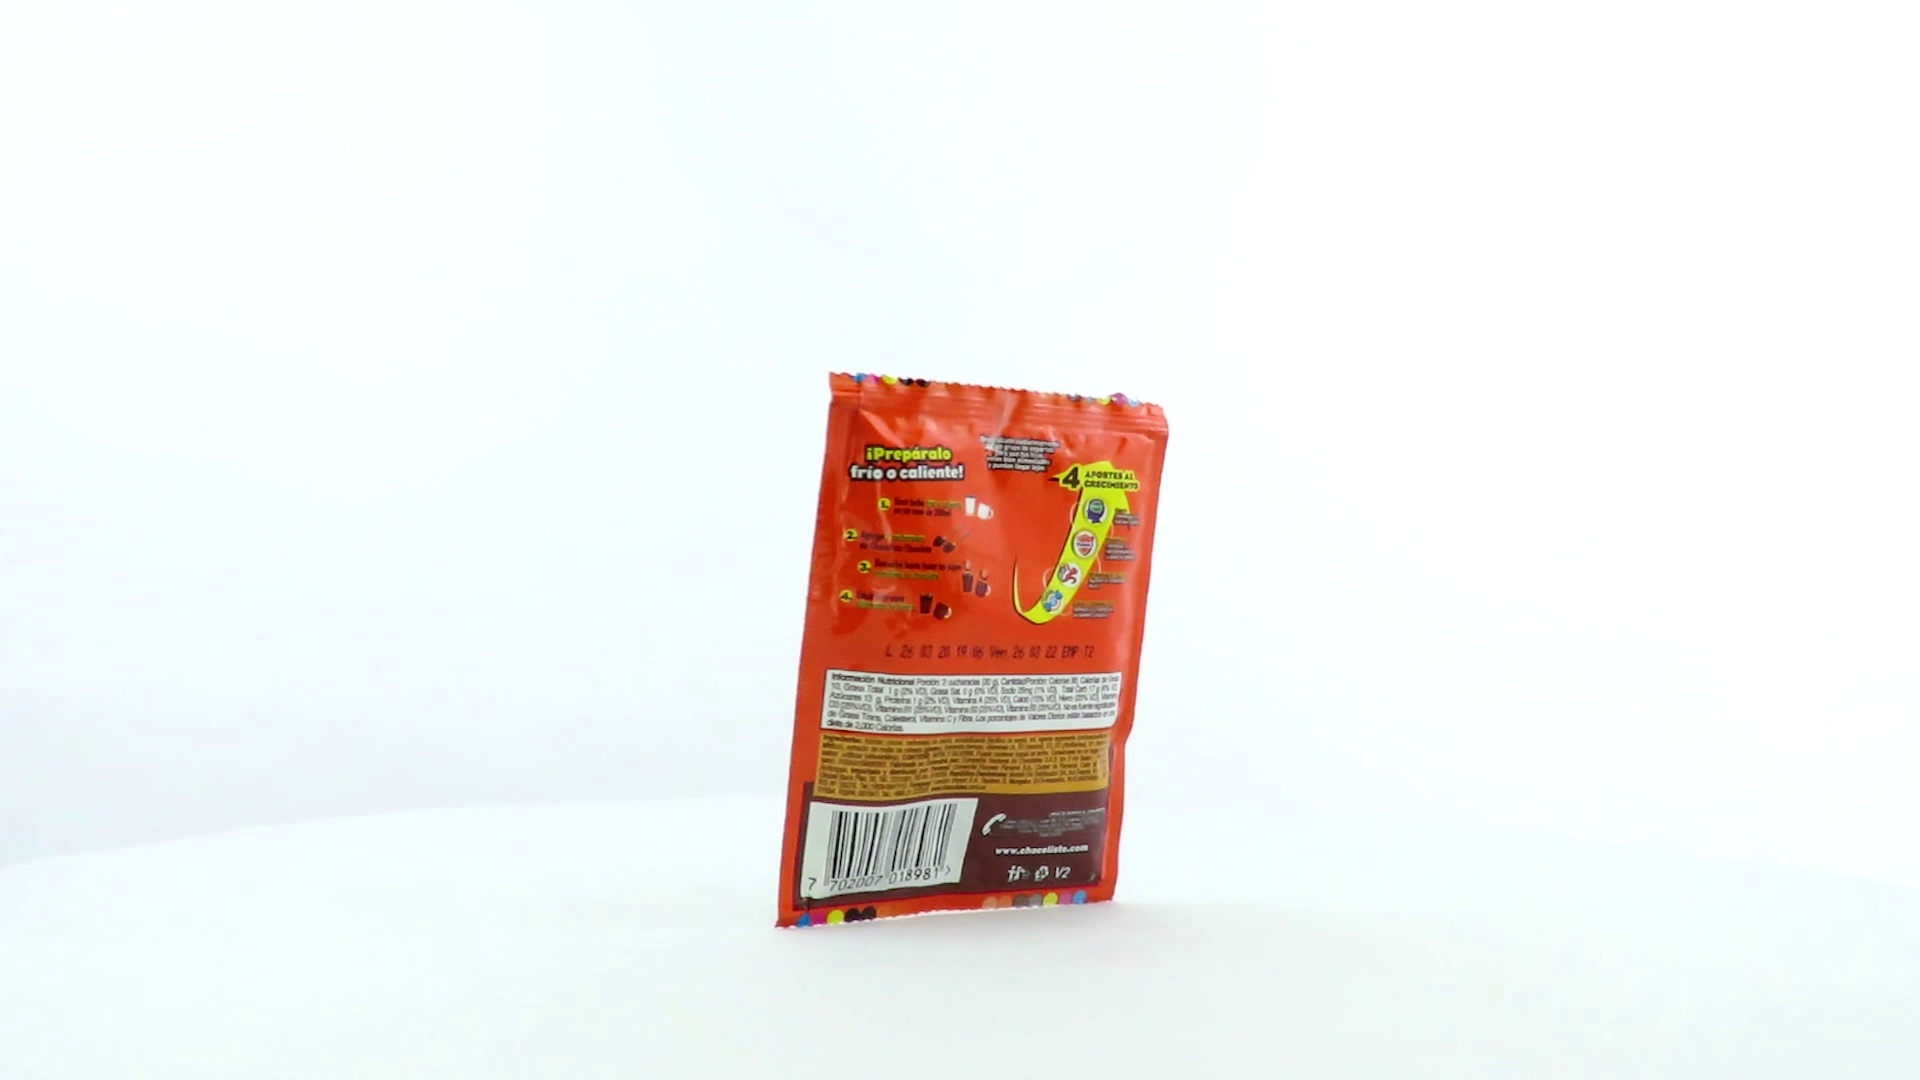COL0170103SOB02000: (770, 367, 1175, 934)
